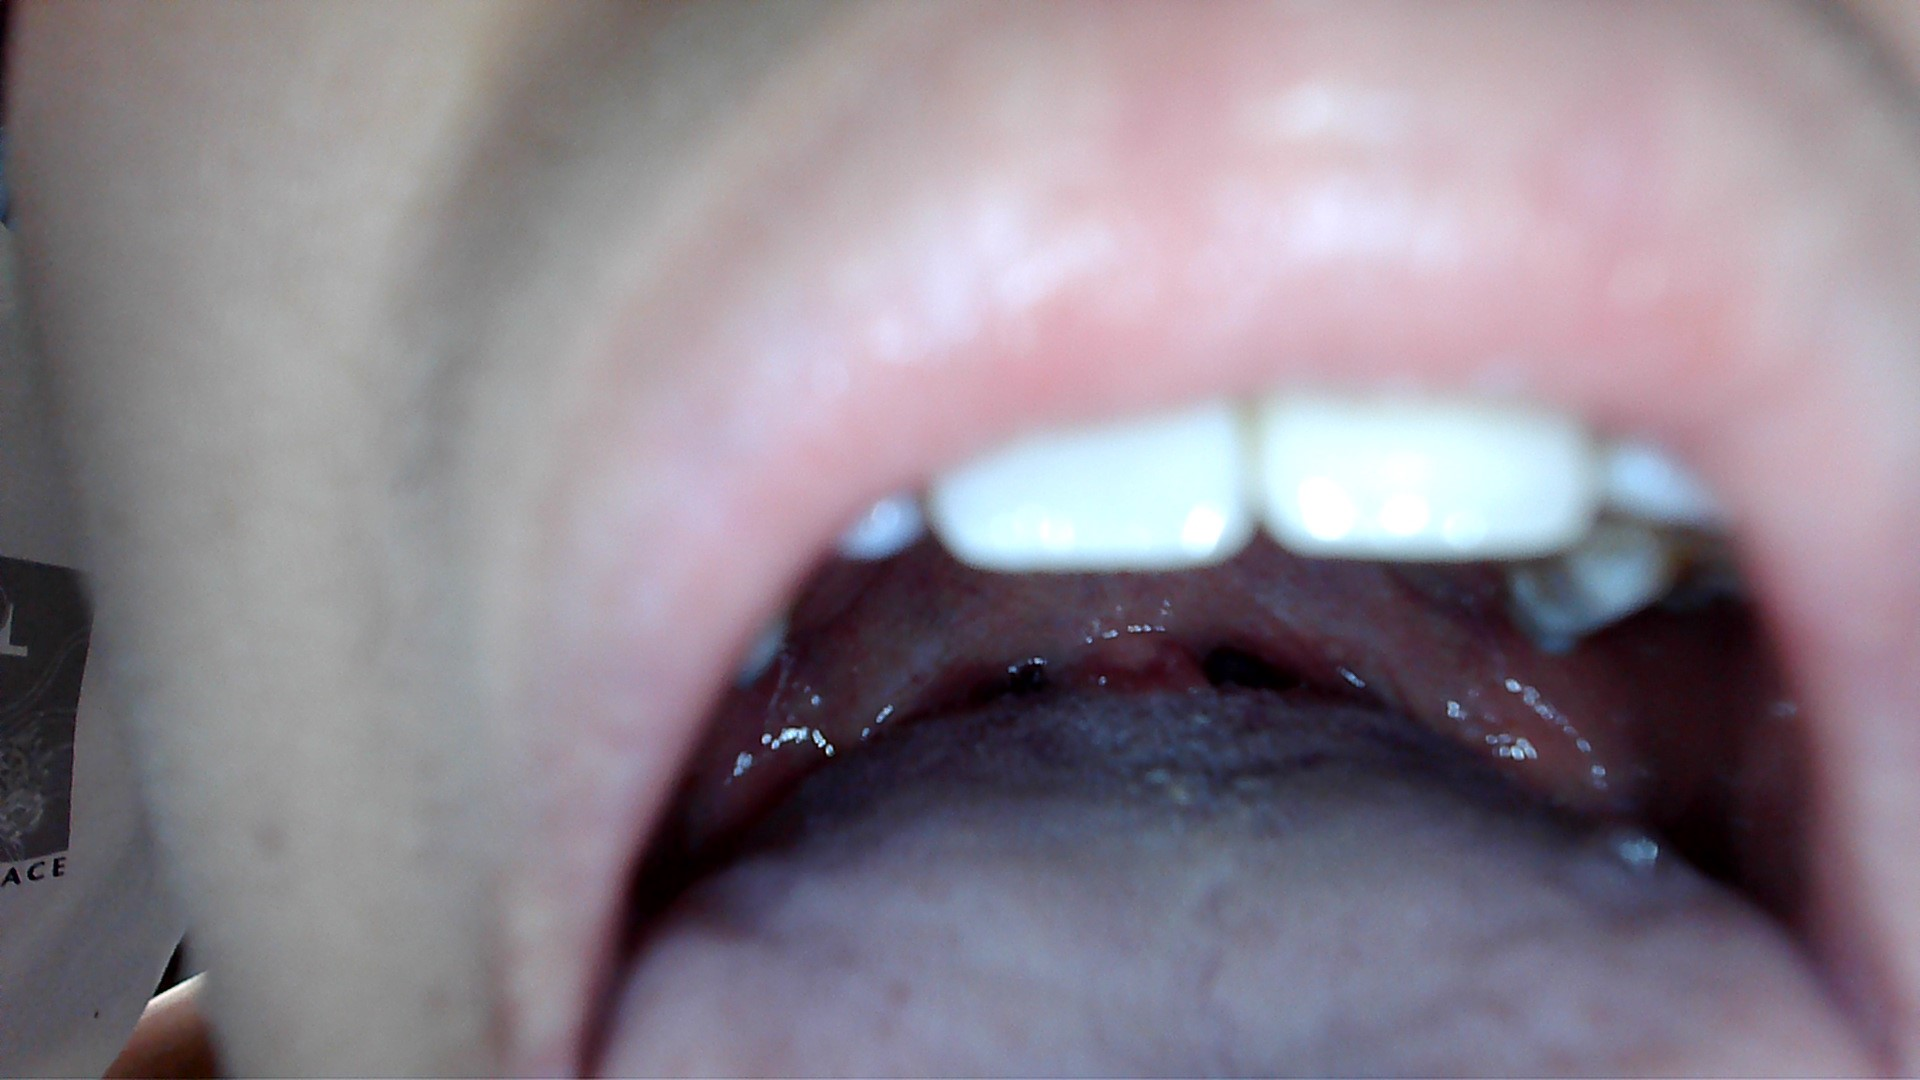throat: (1218, 608, 1414, 720)
